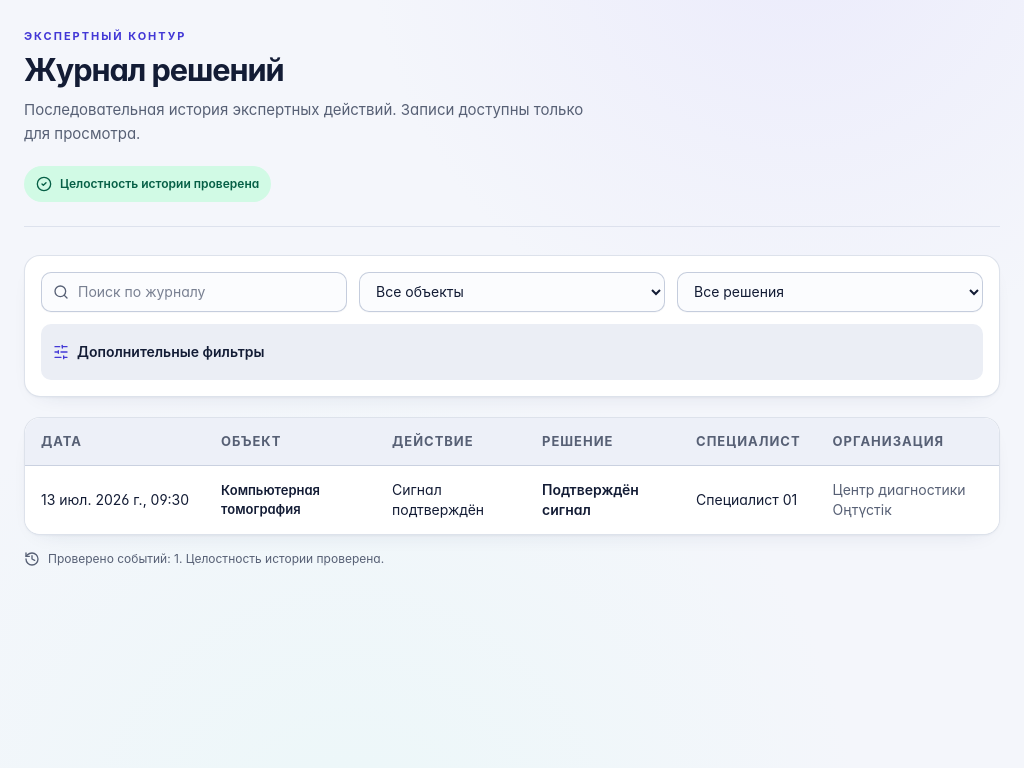
Test: журнал решений › открывает рабочий контекст события без служебных значений
The width and height of the screenshot is (1024, 768).
Click the button with aria-label "Открыть событие 4".
click(115, 500)  # box [25, 466, 999, 534]
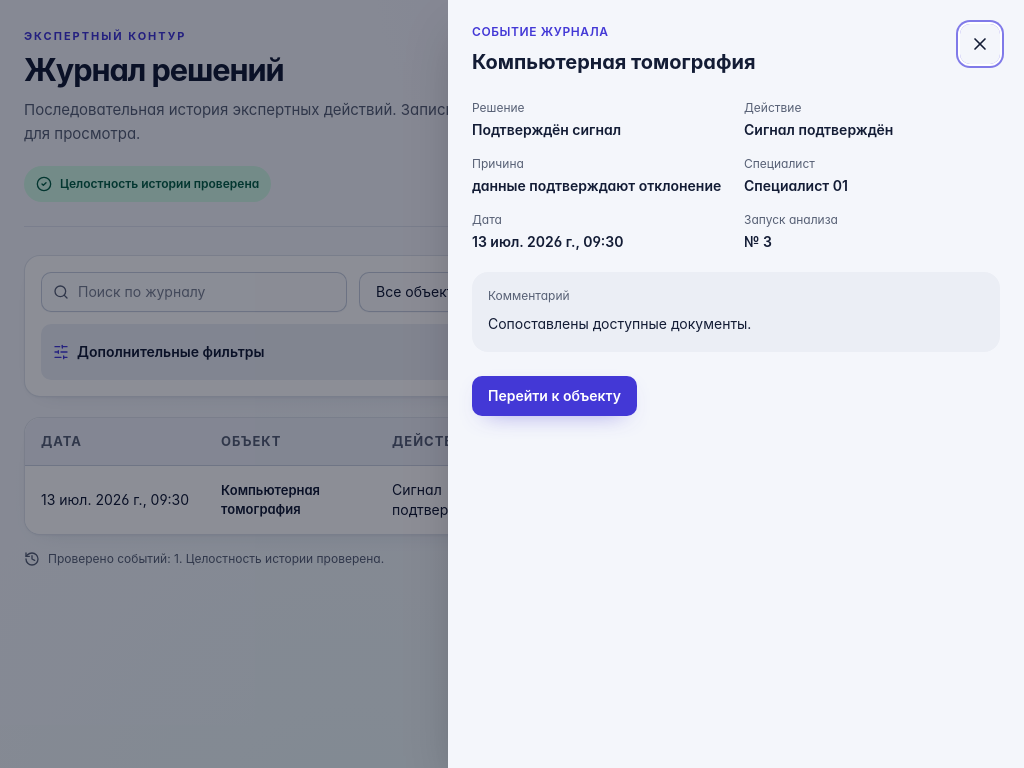
Expected: the dialog shows "данные подтверждают отклонение", [472, 177, 721, 194]
Expected: the dialog shows "Сопоставлены доступные документы", [488, 315, 751, 332]
